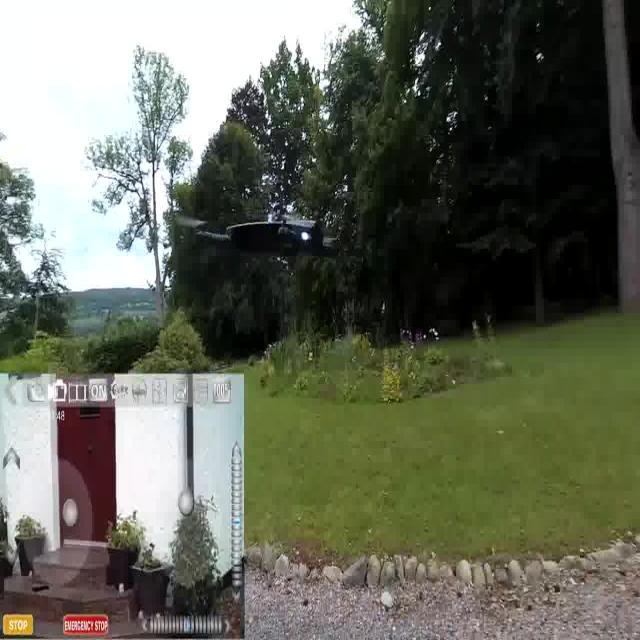Drone_FW: (171, 193, 357, 288)
